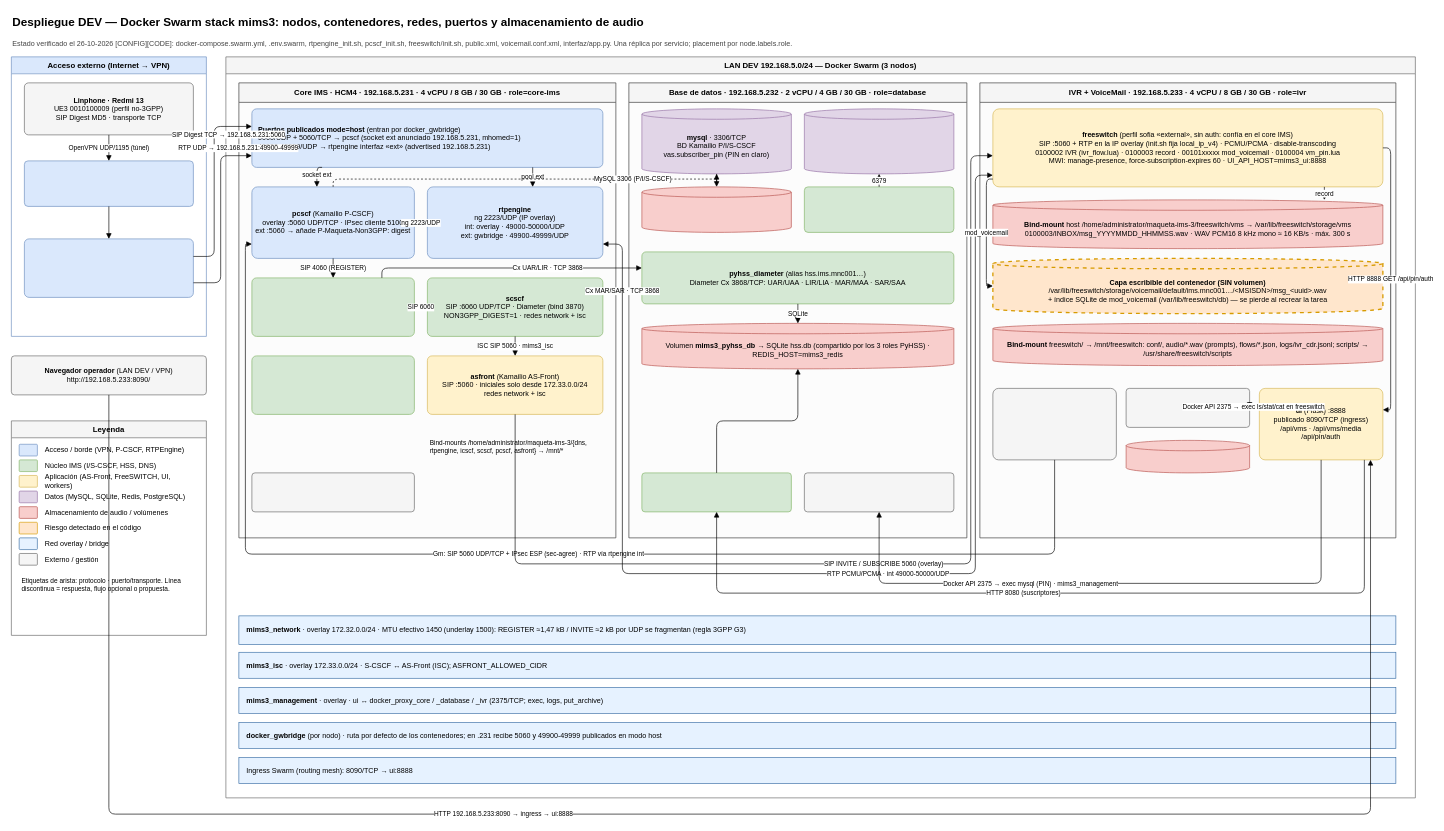
This 1444x831 diagram has some shape labels left out. The shapes that lost their labels are listed below. From the top down, each one's centre as x and y in pixels, then its label:
At point 879,141: "redis · 6379/TCP sin volumen · appendonly off".
At point 108,183: "Servidor OpenVPN ltc.hacom.com.pe · UDP 1195".
At point 716,209: "Volumen mims3_database (local .232)".
At point 879,209: "pyhss_hss".
At point 108,267: "Firewall de la VPN NAT del cliente → 192.168.5.1 (origen visto por el nodo .231)".
At point 332,306: "icscf SIP :4060 UDP/TCP Diameter (bind 3869)".
At point 332,384: "dns 53/UDP · ims.mnc001.mcc001.3gppnetwork.org".
At point 1054,424: "softphone (pjsua parcheado) UE1 0010100001 · UE2 0010100002 IMS-AKA + IPsec ESP".
At point 1187,407: "docker_proxy_ivr 2375/TCP".
At point 1187,456: "Volumen ui_config".
At point 332,492: "docker_proxy_core (HAProxy) 2375/TCP · mims3_management".
At point 716,492: "pyhss_api HTTP 8080".
At point 879,492: "docker_proxy_database 2375/TCP".
